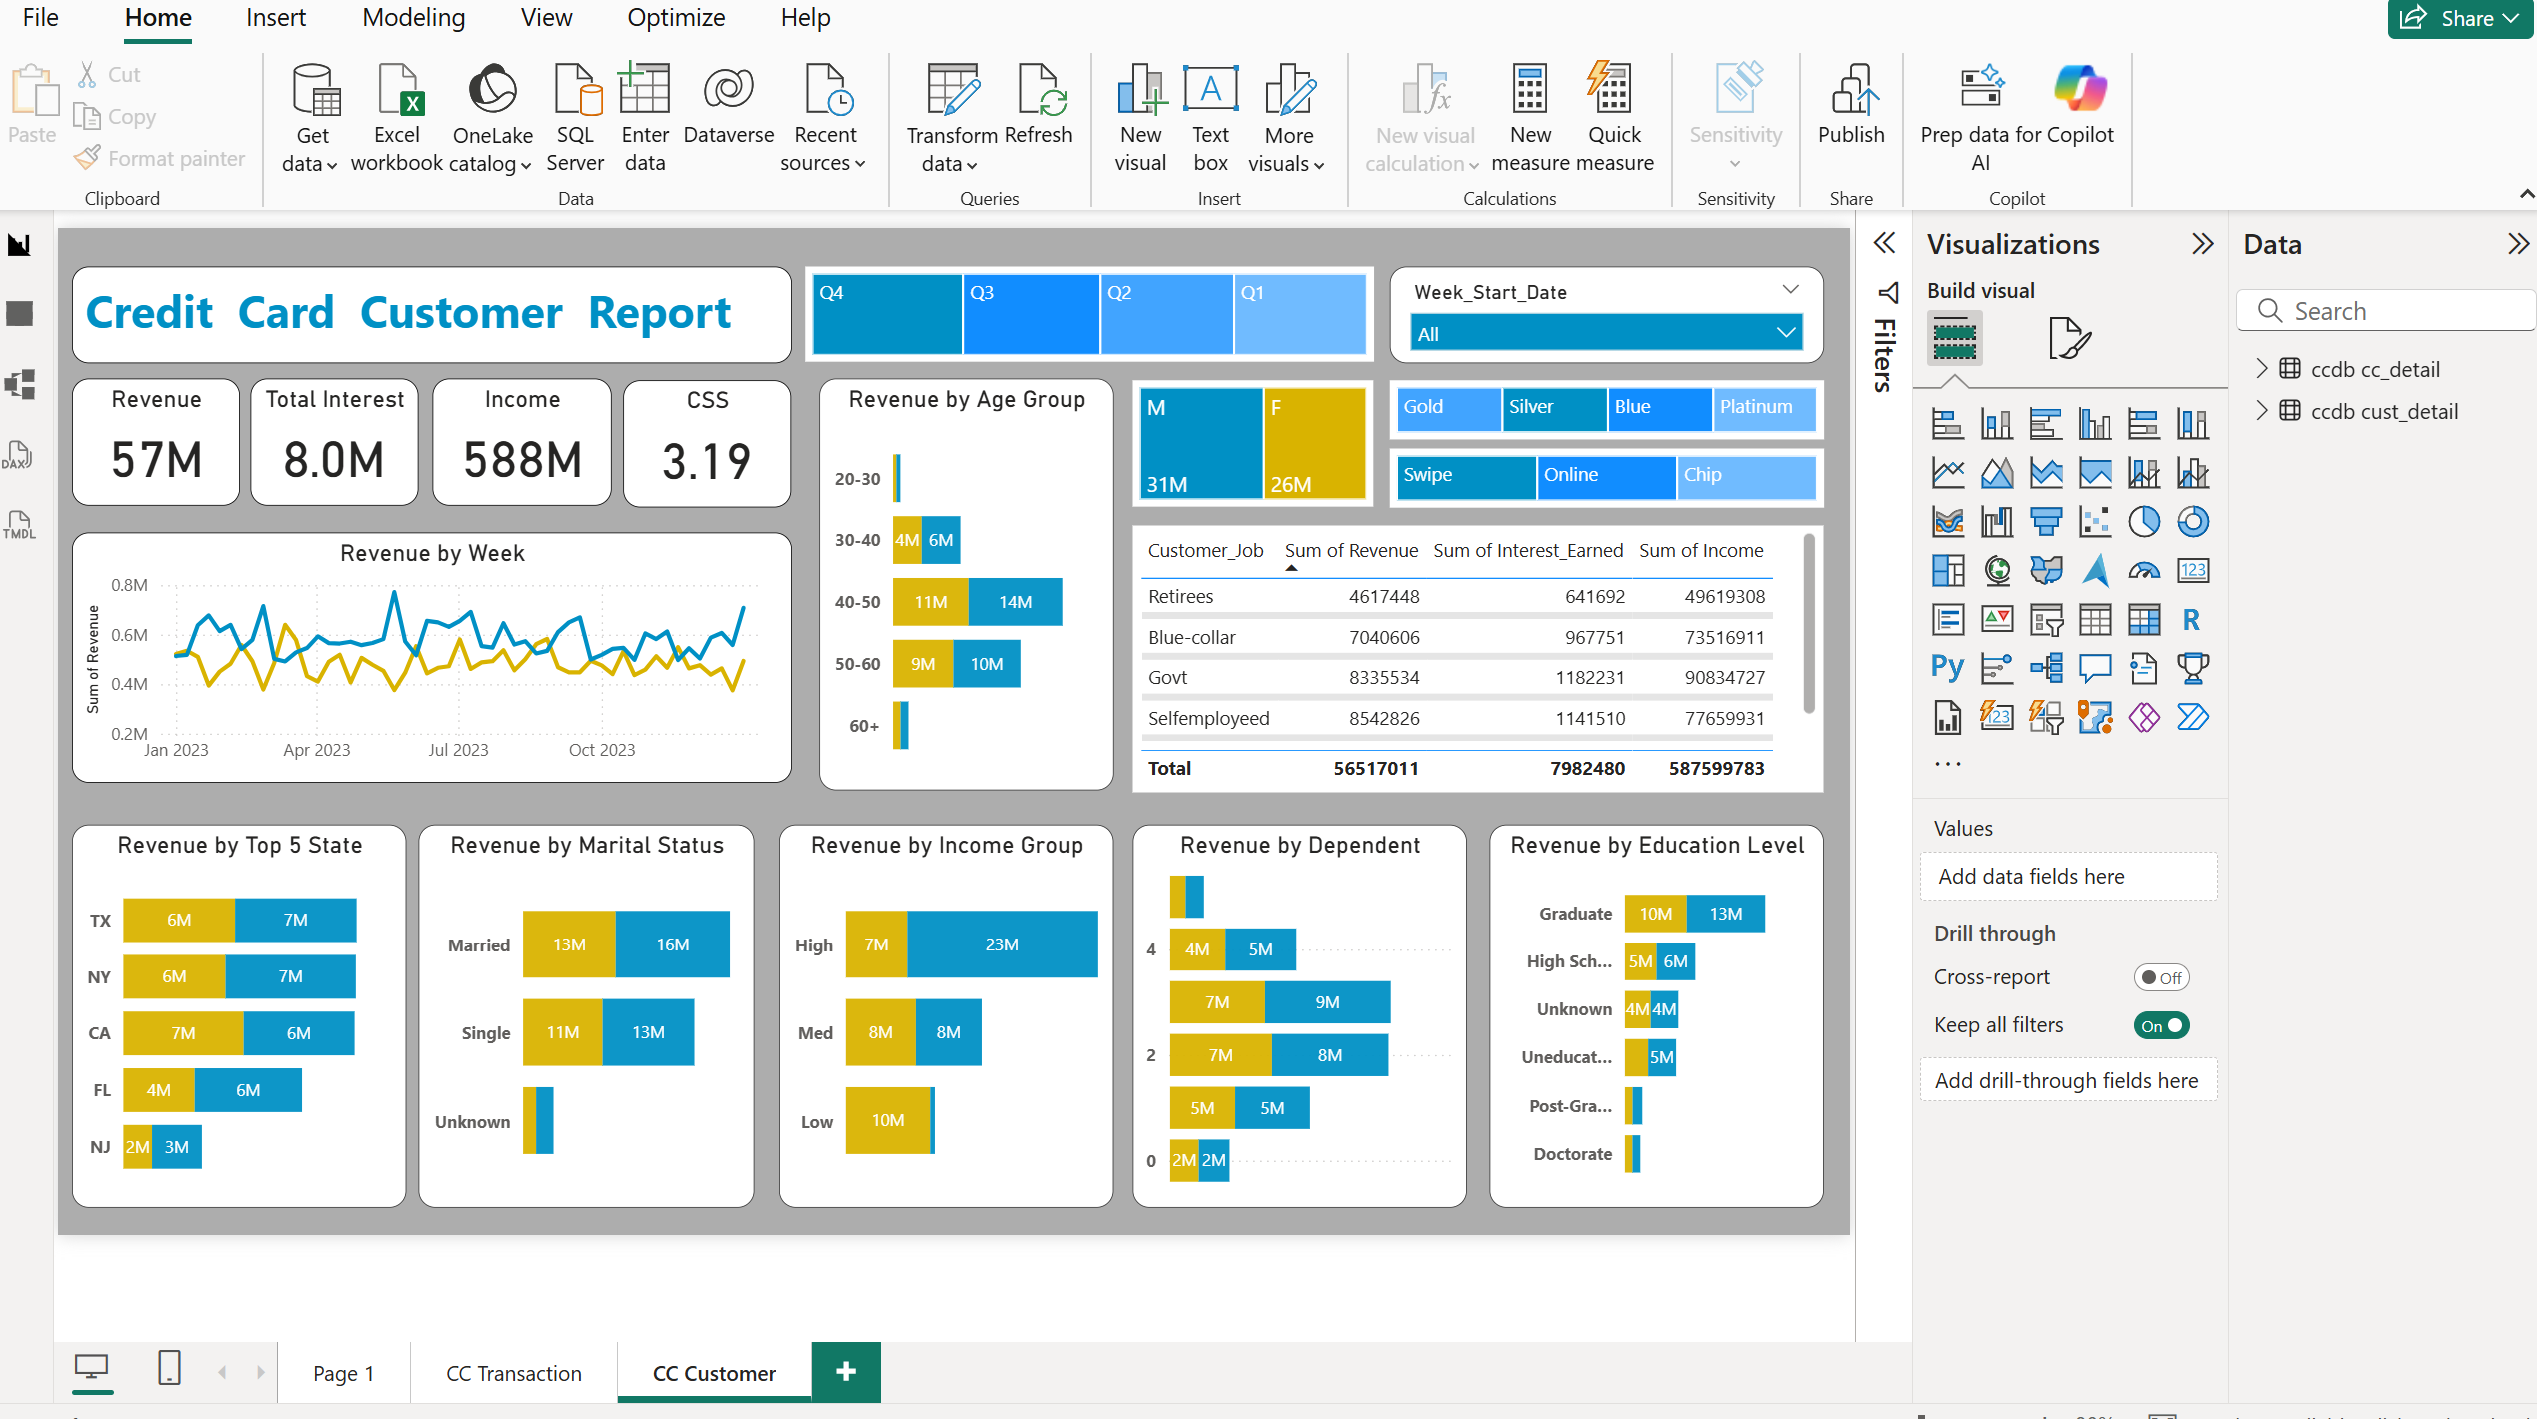

What the dashboard file says about the page in this screenshot:
{"tool":"powerbi","page":{"name":"CC Customer","canvas":[1280,720],"ordinal":2},"visuals":[{"type":"textbox","box":[10,28,514,69],"z":0},{"type":"barChart","title":"Revenue by Income Group","fields":{"Y":["Sum(ccdb cc_detail.Revenue)"],"Category":["ccdb cust_detail.IncomeGroup"],"Series":["ccdb cust_detail.Gender"]},"box":[515,426,239,274],"z":1000},{"type":"tableEx","fields":{"Values":["ccdb cust_detail.Customer_Job","Sum(ccdb cc_detail.Revenue)","Sum(ccdb cc_detail.Interest_Earned)","Sum(ccdb cust_detail.Income)"]},"box":[768,212,493,190],"z":2000},{"type":"card","title":"Revenue","fields":{"Values":["Sum(ccdb cc_detail.Revenue)"]},"box":[10,108,120,91],"z":3000},{"type":"card","title":"Income","fields":{"Values":["Sum(ccdb cust_detail.Income)"]},"box":[267,108,128,91],"z":4000},{"type":"card","title":"Total Interest","fields":{"Values":["Sum(ccdb cc_detail.Interest_Earned)"]},"box":[138,108,120,91],"z":5000},{"type":"card","title":"CSS","fields":{"Values":["Avg(ccdb cust_detail.Cust_Satisfaction_Score)"]},"box":[404,109,120,91],"z":6000},{"type":"slicer","fields":{"Values":["ccdb cc_detail.Week_Start_Date"]},"box":[951,28,310,69],"z":7000},{"type":"treemap","fields":{"Group":["ccdb cc_detail.Qtr"],"Values":["Avg(ccdb cc_detail.Client_Num)"]},"box":[534,28,406,68],"z":8000},{"type":"treemap","fields":{"Values":["Avg(ccdb cc_detail.Client_Num)"],"Group":["ccdb cc_detail.Card_Category"]},"box":[951,109,310,42],"z":9000},{"type":"lineChart","title":" Revenue by Week","fields":{"Y":["Sum(ccdb cc_detail.Revenue)"],"Series":["ccdb cust_detail.Gender"],"Category":["ccdb cc_detail.Week_Start_Date.Variation.Date Hierarchy.Year","ccdb cc_detail.Week_Start_Date.Variation.Date Hierarchy.Month","ccdb cc_detail.Week_Start_Date.Variation.Date Hierarchy.Day"]},"box":[10,217,514,179],"z":10000},{"type":"treemap","fields":{"Group":["ccdb cust_detail.Gender"],"Values":["Sum(ccdb cc_detail.Revenue)"]},"box":[768,109,172,90],"z":11000},{"type":"barChart","title":"Revenue by Marital Status","fields":{"Y":["Sum(ccdb cc_detail.Revenue)"],"Category":["ccdb cust_detail.Marital_Status"],"Series":["ccdb cust_detail.Gender"]},"box":[258,426,240,274],"z":12000},{"type":"barChart","title":"Revenue by Age Group","fields":{"Y":["Sum(ccdb cc_detail.Revenue)"],"Category":["ccdb cust_detail.AgeGroup"],"Series":["ccdb cust_detail.Gender"]},"box":[544,108,210,294],"z":13000},{"type":"barChart","title":"Revenue by Dependent ","fields":{"Y":["Sum(ccdb cc_detail.Revenue)"],"Category":["ccdb cust_detail.Dependent_Count"],"Series":["ccdb cust_detail.Gender"]},"box":[768,426,239,274],"z":14000},{"type":"barChart","title":"Revenue by Education Level","fields":{"Y":["Sum(ccdb cc_detail.Revenue)"],"Category":["ccdb cust_detail.Education_Level"],"Series":["ccdb cust_detail.Gender"]},"box":[1022,426,239,274],"z":15000},{"type":"barChart","title":"Revenue by Top 5 State","fields":{"Y":["Sum(ccdb cc_detail.Revenue)"],"Category":["ccdb cust_detail.State_cd"],"Series":["ccdb cust_detail.Gender"]},"box":[10,426,239,274],"z":16000},{"type":"treemap","fields":{"Values":["Avg(ccdb cc_detail.Client_Num)"],"Group":["ccdb cc_detail.Use_Chip"]},"box":[951,157,310,42],"z":17000}]}

Visuals, with their boxes on the page's 1280x720 design canvas (x1, y1, x2, y2). These are canvas units, not pixel positions in the 2537x1419 screenshot, which may show the page scaled, cropped or inside an application window:
textbox: <bbox>10, 28, 524, 97</bbox>
"Revenue by Income Group" barChart: <bbox>515, 426, 754, 700</bbox>
tableEx - ccdb cust_detail.Customer_Job x Sum(ccdb cc_detail.Revenue): <bbox>768, 212, 1261, 402</bbox>
"Revenue" card: <bbox>10, 108, 130, 199</bbox>
"Income" card: <bbox>267, 108, 395, 199</bbox>
"Total Interest" card: <bbox>138, 108, 258, 199</bbox>
"CSS" card: <bbox>404, 109, 524, 200</bbox>
slicer - ccdb cc_detail.Week_Start_Date: <bbox>951, 28, 1261, 97</bbox>
treemap - ccdb cc_detail.Qtr x Avg(ccdb cc_detail.Client_Num): <bbox>534, 28, 940, 96</bbox>
treemap - Avg(ccdb cc_detail.Client_Num) x ccdb cc_detail.Card_Category: <bbox>951, 109, 1261, 151</bbox>
" Revenue by Week" lineChart: <bbox>10, 217, 524, 396</bbox>
treemap - ccdb cust_detail.Gender x Sum(ccdb cc_detail.Revenue): <bbox>768, 109, 940, 199</bbox>
"Revenue by Marital Status" barChart: <bbox>258, 426, 498, 700</bbox>
"Revenue by Age Group" barChart: <bbox>544, 108, 754, 402</bbox>
"Revenue by Dependent " barChart: <bbox>768, 426, 1007, 700</bbox>
"Revenue by Education Level" barChart: <bbox>1022, 426, 1261, 700</bbox>
"Revenue by Top 5 State" barChart: <bbox>10, 426, 249, 700</bbox>
treemap - Avg(ccdb cc_detail.Client_Num) x ccdb cc_detail.Use_Chip: <bbox>951, 157, 1261, 199</bbox>
